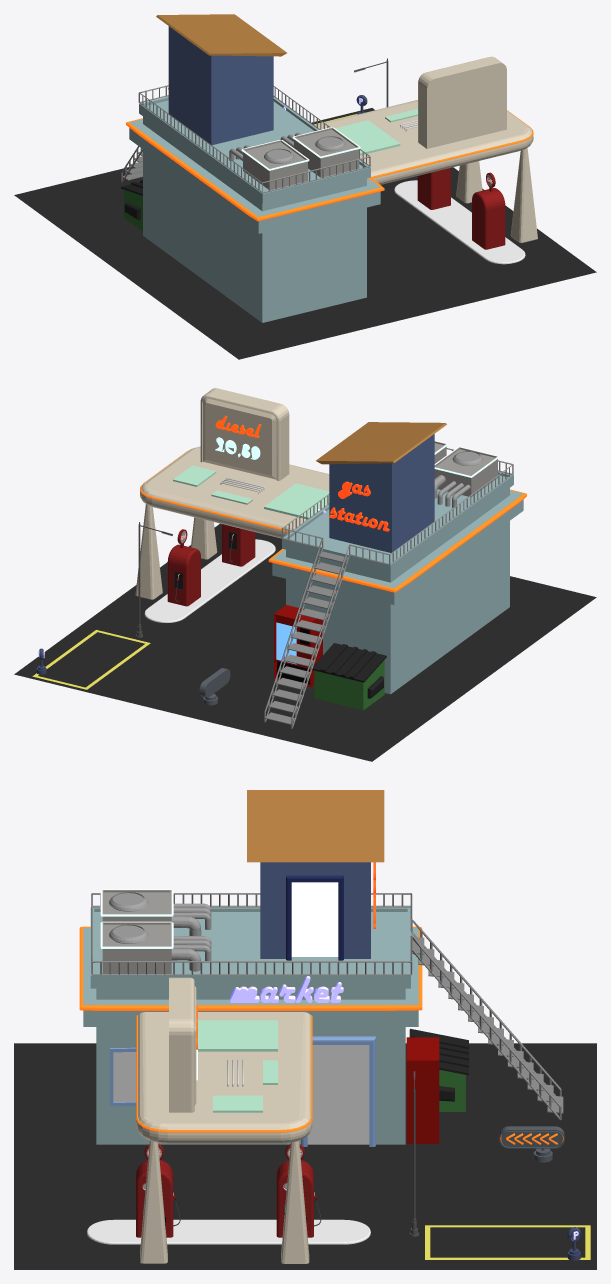
Rendered from gas_station.fbx.
3 views of the same model, one above another, from view 1: azimuth 30°, elevation 25°; view 2: azimuth 150°, elevation 25°; view 3: azimuth 270°, elevation 25° (orthographic). The views are drawn at different scales.
Visible parts, largest first — view 1: market, Plane, gas_sign, shack, gas_pump, air_conditioning, bin; view 2: Plane, market, gas_sign, shack, gas_pump, bin, air_conditioning, automat, signpost; view 3: Plane, market, gas_sign, shack, gas_pump, air_conditioning, automat, bin, signpost.
Boxes of the visible parts, bbox=[...] form: market: bbox=[121, 85, 384, 322]; Plane: bbox=[14, 108, 596, 359]; gas_sign: bbox=[314, 56, 537, 242]; shack: bbox=[156, 14, 286, 145]; gas_pump: bbox=[394, 168, 525, 264]; air_conditioning: bbox=[229, 127, 360, 189]; bin: bbox=[121, 180, 142, 231]; Plane: bbox=[14, 523, 596, 761]; market: bbox=[264, 448, 526, 728]; gas_sign: bbox=[135, 388, 329, 599]; shack: bbox=[316, 422, 446, 552]; gas_pump: bbox=[144, 524, 275, 622]; bin: bbox=[312, 643, 386, 710]; air_conditioning: bbox=[434, 440, 499, 508]; automat: bbox=[274, 605, 322, 687]; signpost: bbox=[199, 668, 230, 705]; Plane: bbox=[14, 1043, 596, 1269]; market: bbox=[79, 893, 563, 1146]; gas_sign: bbox=[136, 977, 312, 1263]; shack: bbox=[247, 790, 384, 960]; gas_pump: bbox=[87, 1144, 370, 1244]; air_conditioning: bbox=[100, 889, 211, 973]; automat: bbox=[406, 1037, 439, 1143]; bin: bbox=[409, 1028, 469, 1111]; signpost: bbox=[499, 1126, 564, 1162].
Bounding box in the file's own units: 1401 × 849 × 1524.
